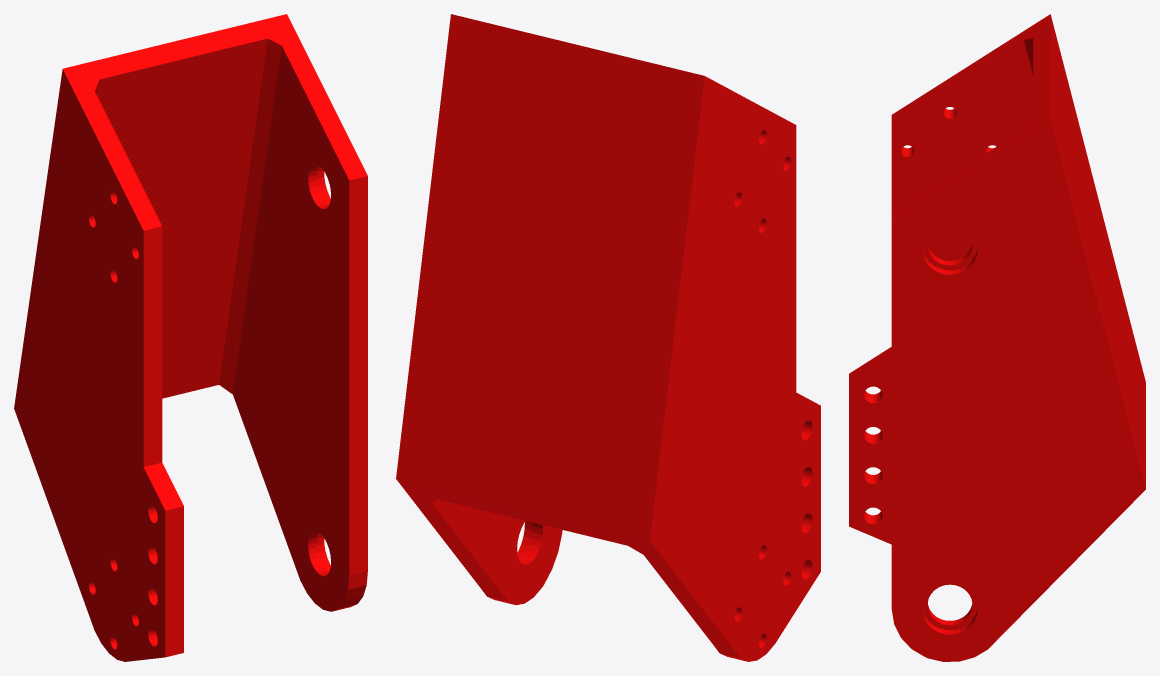
The model's file is Left_lower_leg.dae.
The picture shows the model from 3 angles, left to right: view 1: azimuth 30°, elevation 25°; view 2: azimuth 150°, elevation 25°; view 3: azimuth 270°, elevation 25°; orthographic projection. The views are drawn at different scales.
Visible parts, largest first — view 1: lower_leg_left; view 2: lower_leg_left; view 3: lower_leg_left.
Part boxes in pixels (bbox=[...]): lower_leg_left: bbox=[14, 14, 367, 661]; lower_leg_left: bbox=[396, 14, 820, 661]; lower_leg_left: bbox=[849, 14, 1145, 661].
Size of the model in its own units: 0.048 by 0.0561 by 0.1127.
